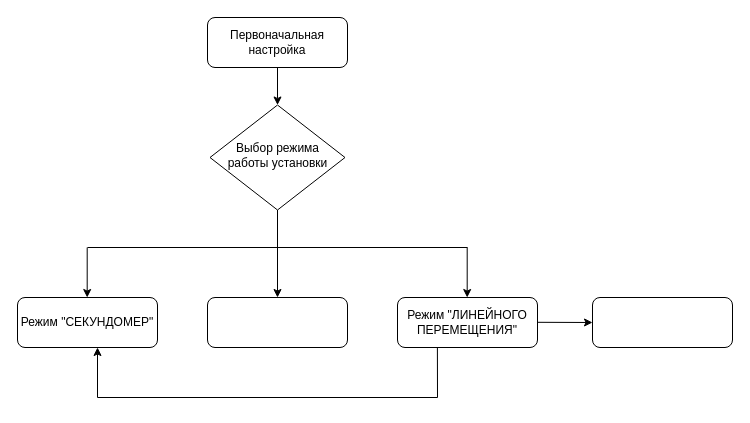
This 750x423 diagram has some shape labels left out. The box of each missing label's shape, as (x1, y1, x2, y2) in pixels:
Режим "ТАЙМЕР": (206, 296, 348, 348)
Режим измерения линейного перемещения*: (592, 296, 732, 348)
